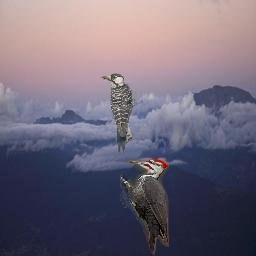Woodpecker: (120, 159, 169, 256), (100, 73, 140, 155)
